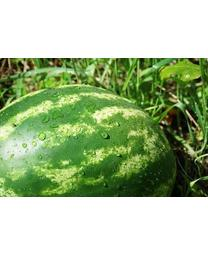watermelon: (1, 85, 178, 199)
